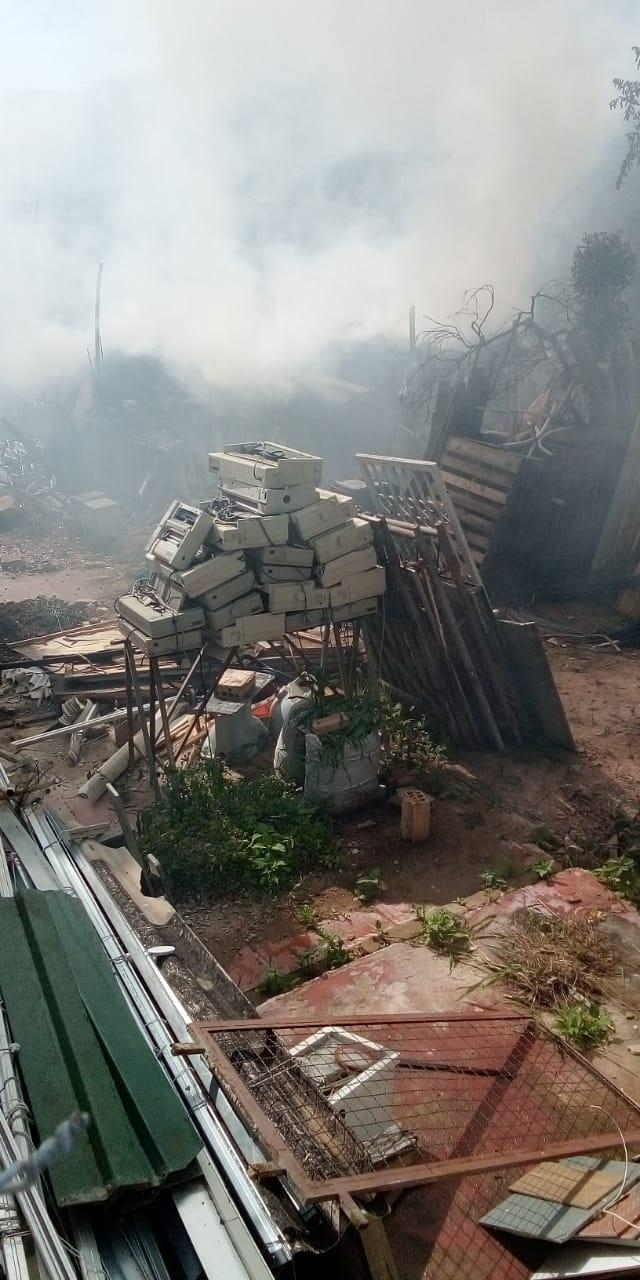smoke: (27, 57, 423, 323)
